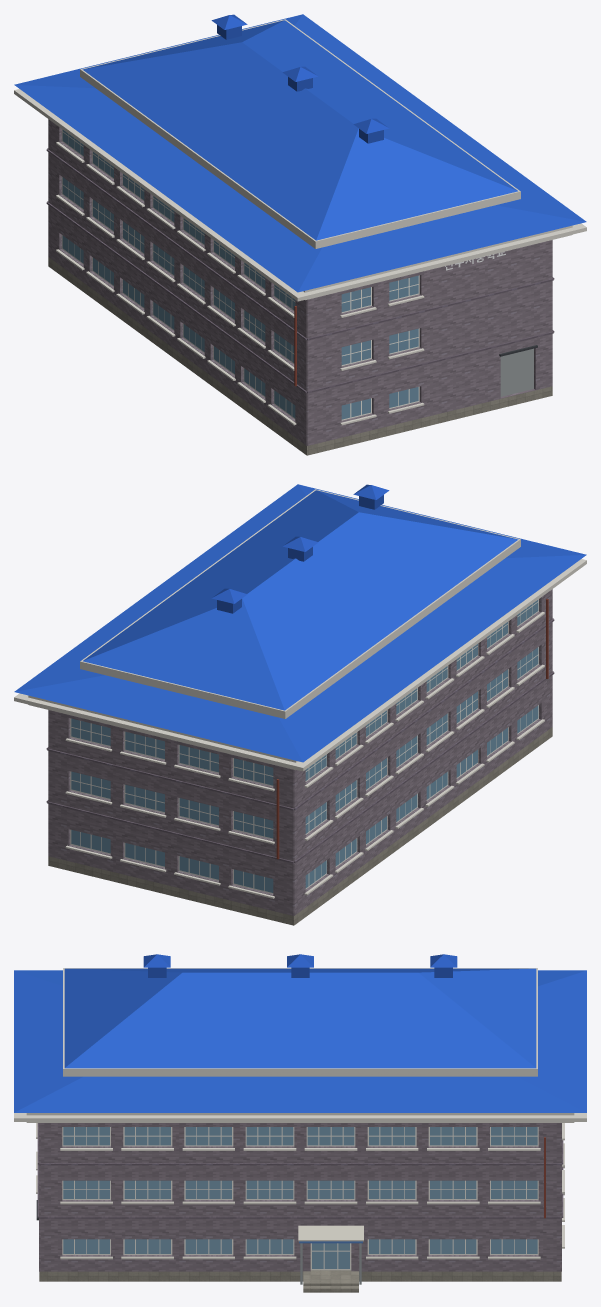
3 views of the same model, one above another, from view 1: azimuth 30°, elevation 25°; view 2: azimuth 150°, elevation 25°; view 3: azimuth 270°, elevation 25° (orthographic).
Parts seen in each view (by area): view 1: west__blueroof, west__brick, west__white, west__sideglass, west__stone, west__frame, west__pier, west__vent, west__shutter; view 2: west__blueroof, west__brick, west__white, west__sideglass, west__frame, west__stone, west__pier, west__vent; view 3: west__blueroof, west__brick, west__glass, west__white, west__frame, west__stone, west__pier, west__vent, west__cap, west__stair-east, west__threshold-east.
Part boxes in pixels (x1,y1,x2,y2): west__blueroof: (14, 14, 586, 292); west__brick: (48, 119, 552, 445); west__white: (14, 19, 586, 425); west__sideglass: (62, 130, 418, 419); west__stone: (48, 257, 552, 455); west__frame: (62, 129, 419, 420); west__pier: (46, 148, 554, 393); west__vent: (211, 14, 389, 143); west__shutter: (500, 348, 533, 396); west__blueroof: (14, 484, 586, 762); west__brick: (48, 589, 552, 915); west__white: (14, 489, 586, 898); west__sideglass: (71, 600, 538, 892); west__frame: (70, 599, 538, 893); west__stone: (48, 727, 552, 925); west__pier: (46, 618, 554, 863); west__vent: (211, 484, 389, 613); west__blueroof: (14, 968, 586, 1112); west__brick: (39, 1123, 561, 1271); west__glass: (63, 1127, 537, 1268); west__white: (14, 968, 586, 1259); west__frame: (62, 1127, 538, 1270); west__stone: (39, 1271, 561, 1281); west__pier: (37, 1123, 563, 1218); west__vent: (143, 954, 457, 977); west__cap: (298, 1225, 363, 1241); west__stair-east: (303, 1281, 358, 1292); west__threshold-east: (303, 1270, 358, 1280).
Bounding box in the file's own units: 20.59 × 17.46 × 34.
Materials: 16 (4 with a texture image).
